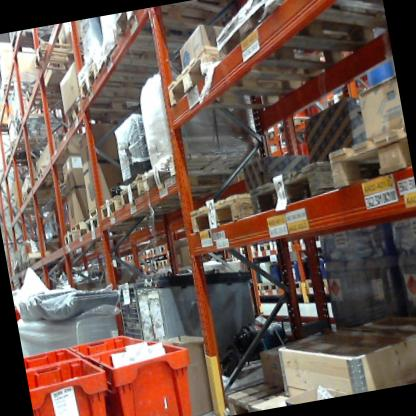pallet: (212, 0, 386, 100), (152, 27, 302, 131), (248, 150, 347, 230), (138, 142, 259, 204), (65, 49, 169, 117), (319, 111, 412, 187), (83, 22, 178, 93), (185, 183, 262, 254), (58, 90, 153, 141), (223, 361, 304, 415), (6, 104, 77, 148), (28, 34, 91, 77), (8, 22, 68, 53), (1, 142, 57, 175), (21, 76, 72, 111), (31, 158, 79, 193), (17, 181, 70, 211), (116, 174, 152, 215), (14, 130, 59, 161), (97, 191, 127, 226), (0, 76, 37, 103), (23, 250, 54, 274), (9, 256, 32, 288), (302, 272, 332, 296), (82, 211, 106, 238), (296, 228, 324, 251), (58, 227, 87, 246), (66, 218, 94, 237), (281, 271, 305, 292), (0, 120, 21, 144), (273, 235, 294, 256), (255, 238, 277, 257), (238, 239, 259, 258), (83, 203, 102, 223), (261, 278, 281, 296), (249, 279, 264, 302), (153, 241, 169, 255), (140, 245, 156, 259), (120, 251, 137, 263), (154, 255, 169, 266), (145, 260, 156, 272)
small_load_carrier: (83, 337, 213, 416), (26, 349, 119, 416), (71, 324, 141, 370), (24, 338, 85, 375)
stillage: (109, 273, 157, 356)
